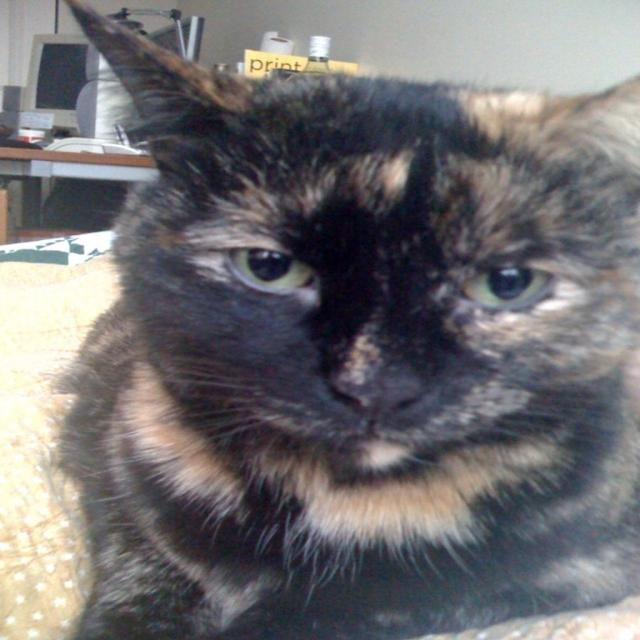Cat: (45, 0, 637, 638)
